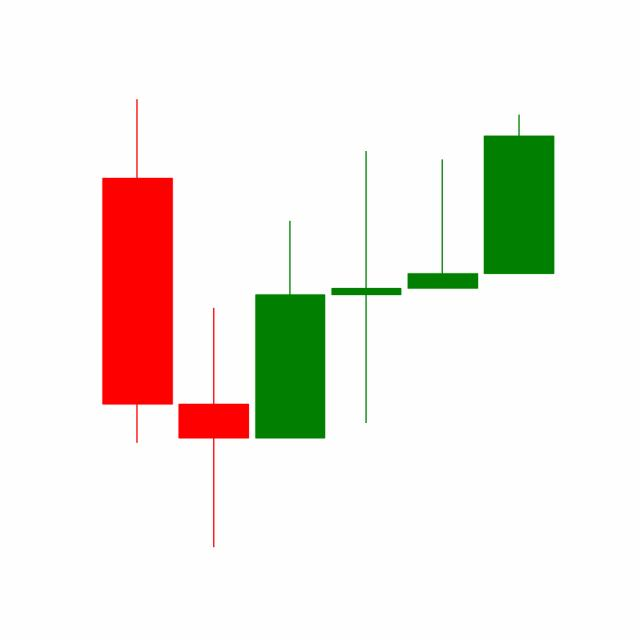Gravestone Doji: (403, 157, 481, 289)
